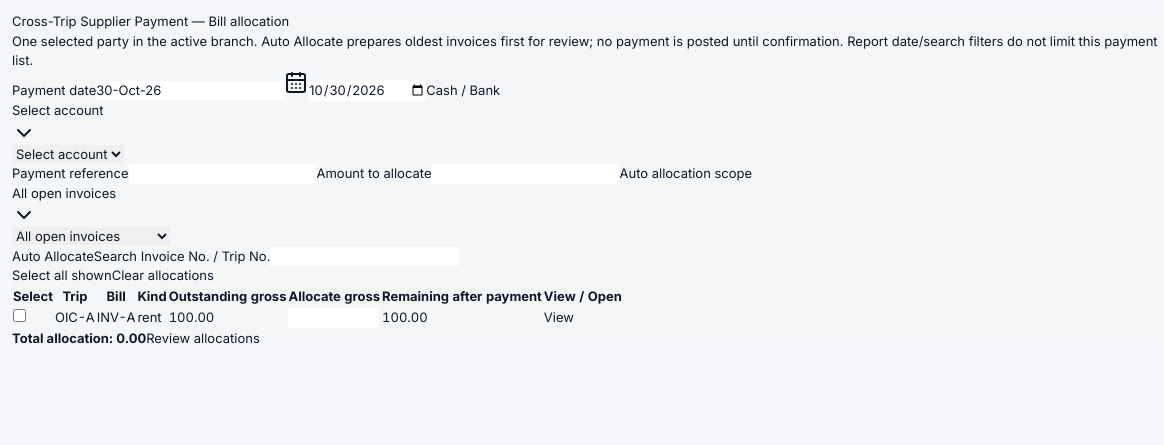
Cash Counter Transport allocations › searches and selects a Cash / Bank option without posting
The image size is (1164, 445).
Step 1. Click the button without text below "Cash / Bank" → (58, 110), box [12,102,104,144]
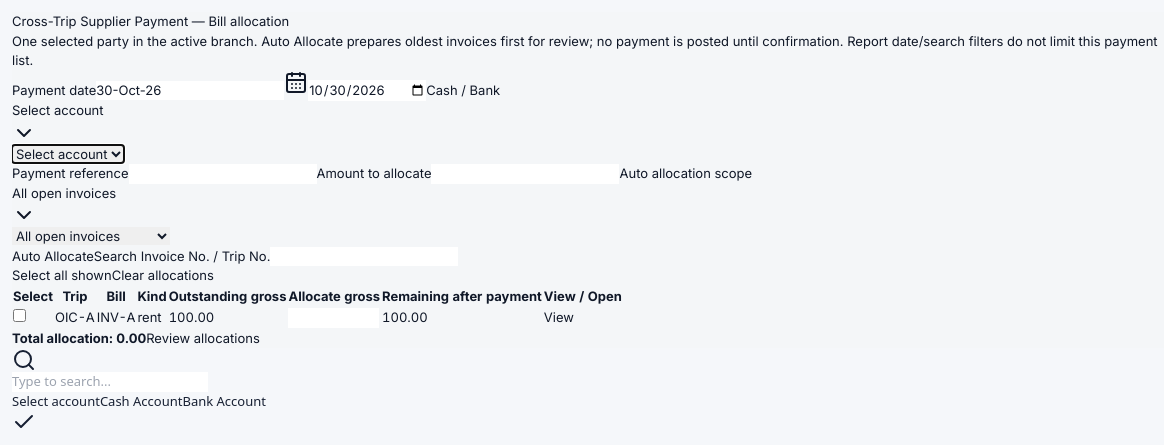
Step 2. Type "Bank Account" into the field with placeholder "Type to search..." → (110, 382), box [12,372,208,392]
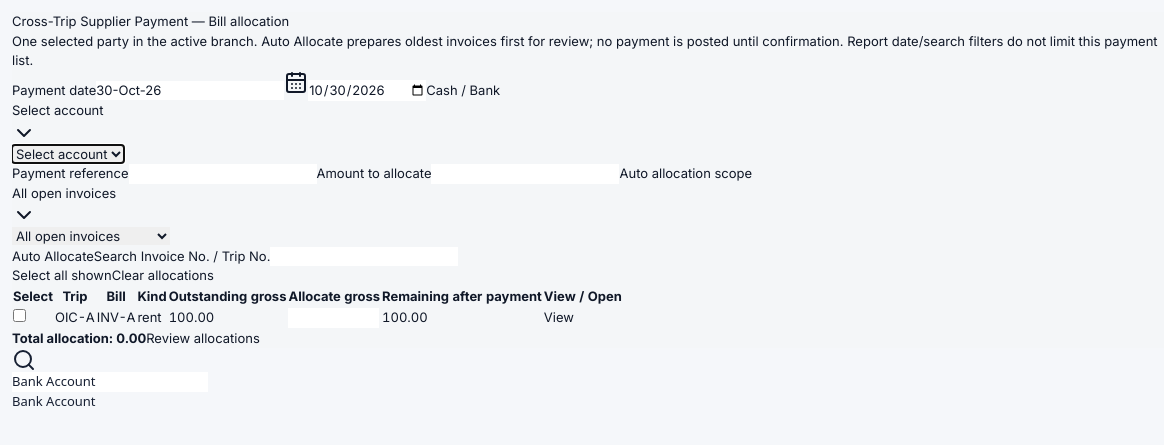
Step 3. Click the option "Bank Account" → (54, 401), box [12,392,96,410]
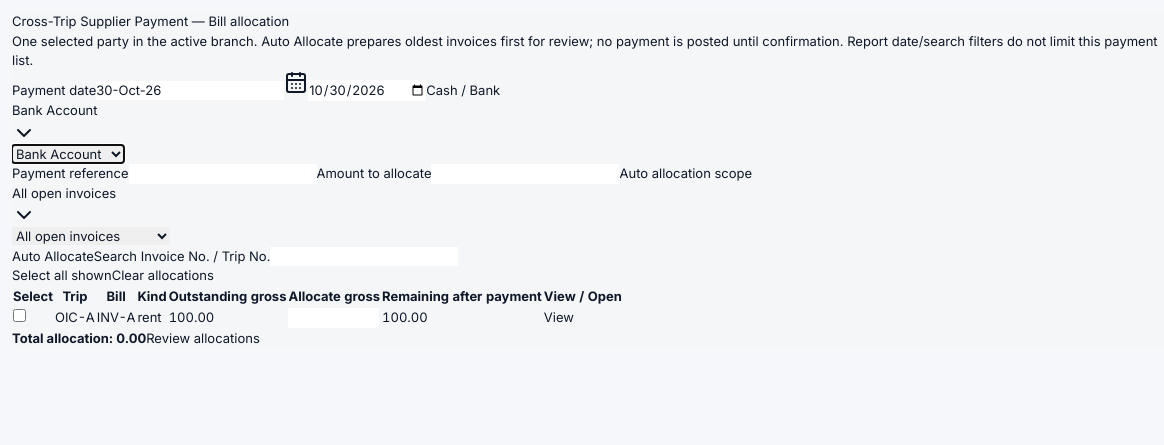
expect the dropdown labelled "Cash / Bank" shows "Bank Account": met, box [12,144,124,162]
